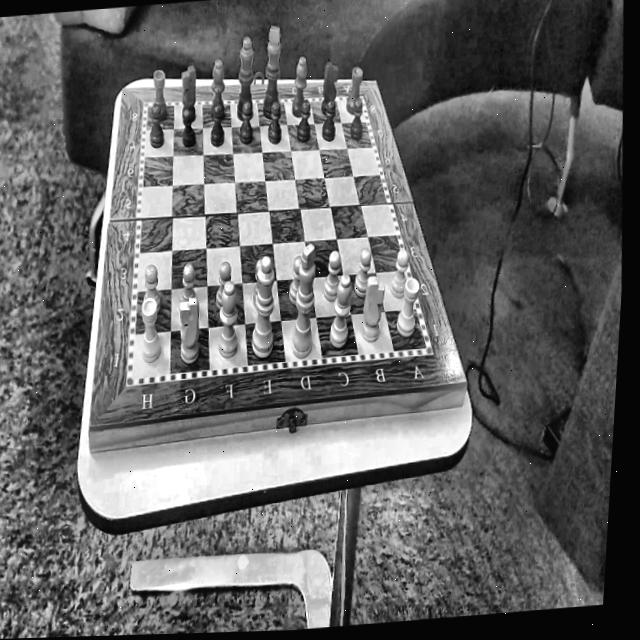chessboard: (130, 100, 426, 376)
